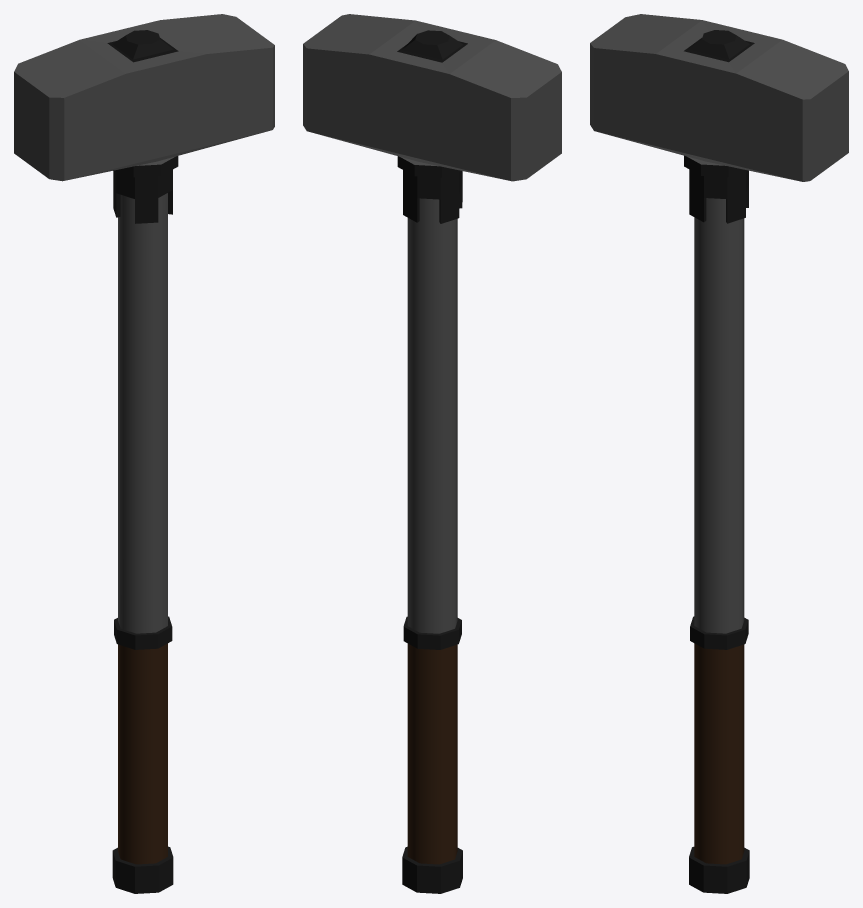
File: Hammer_001.fbx
3 renders of one model, left to right at view 1: azimuth 30°, elevation 25°; view 2: azimuth 150°, elevation 25°; view 3: azimuth 330°, elevation 25°, orthographic.
Visible parts, largest first — view 1: Hammer.001; view 2: Hammer.001; view 3: Hammer.001.
Part boxes in pixels (x1,y1,x2,y2): Hammer.001: (14, 14, 274, 893); Hammer.001: (303, 14, 561, 893); Hammer.001: (590, 14, 848, 893).
Bounding box in the file's own units: 0.6381 × 2.31 × 0.2304.
